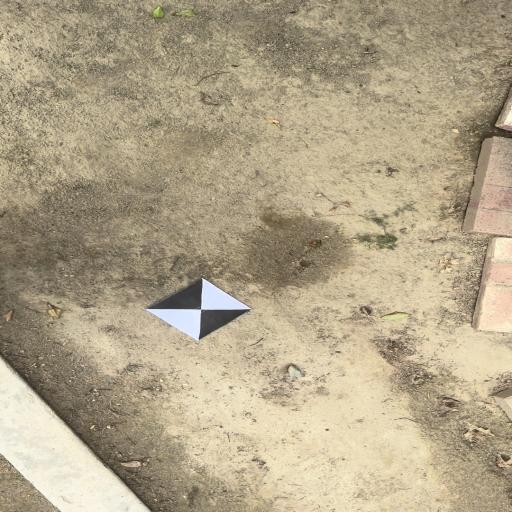target: (145, 278, 251, 341)
